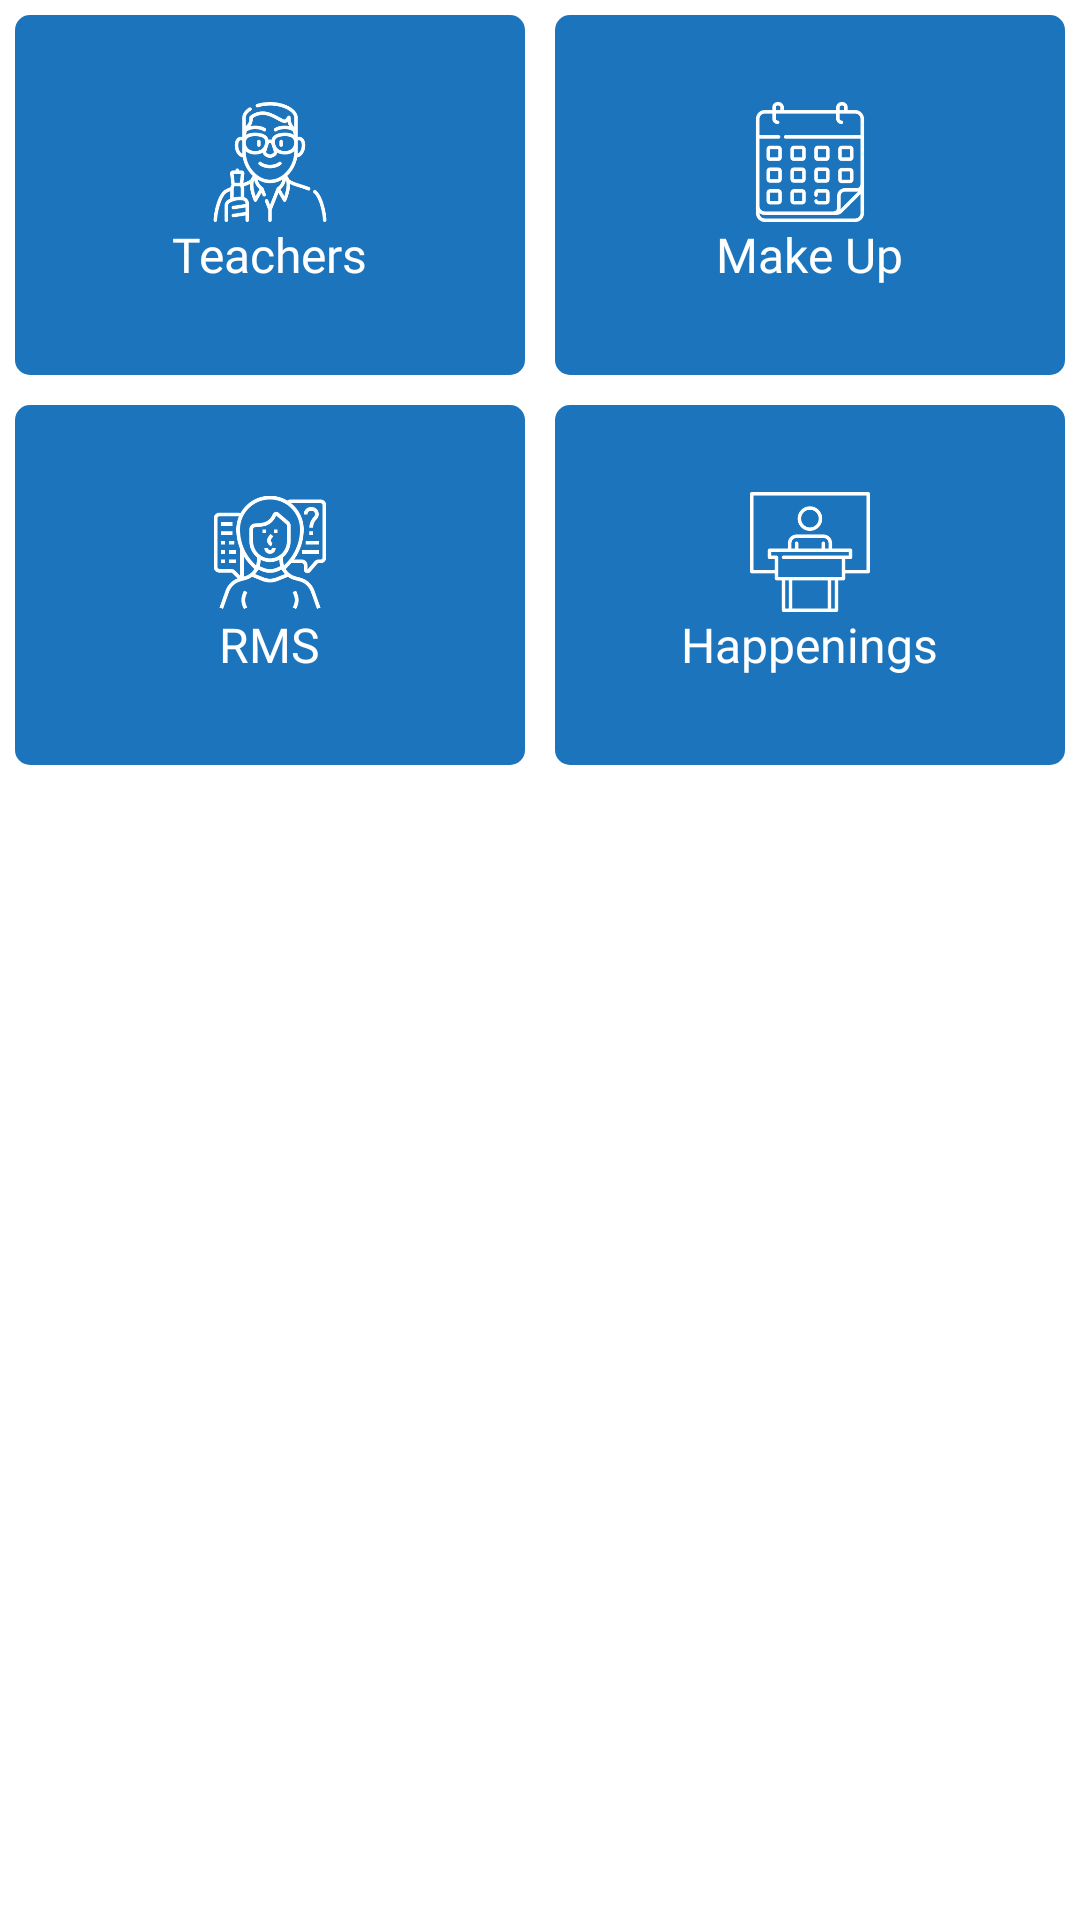

Screen size 1080 × 1920. Icon name, then its box in pixels as (x1, y1, x2, y2):
lecture: (750, 492, 870, 612)
